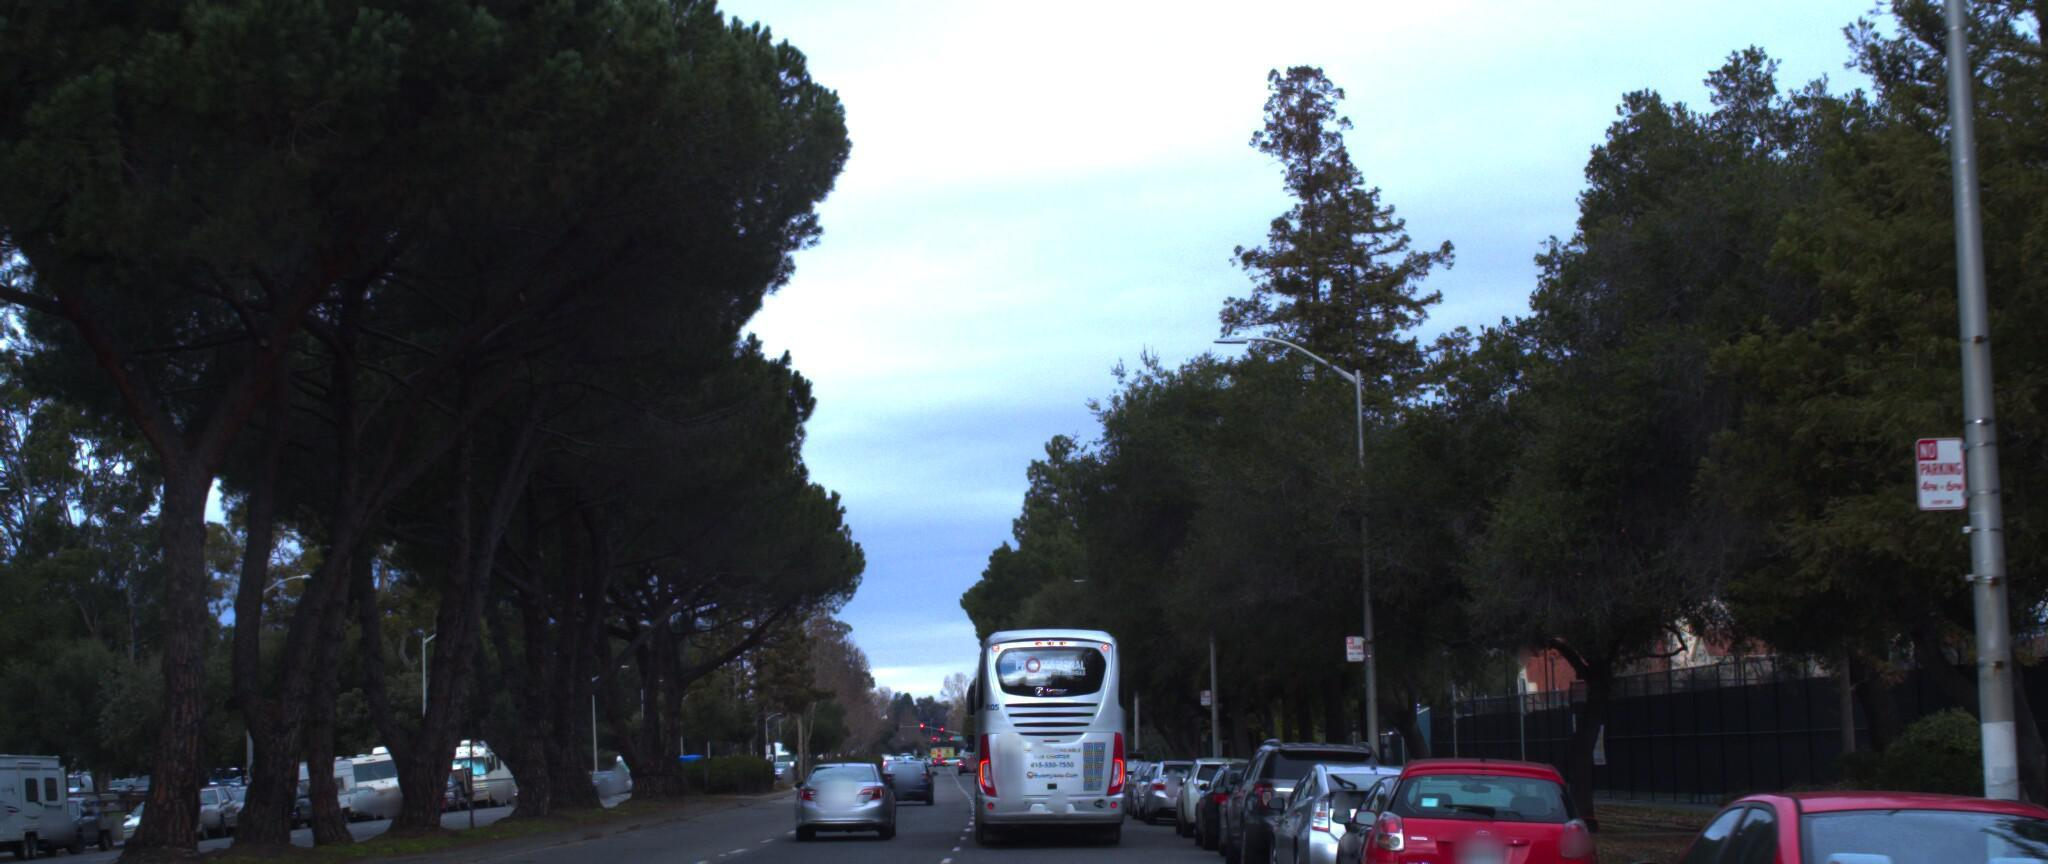bus: (946, 611, 1132, 846)
car: (1567, 762, 2048, 864), (1362, 735, 1620, 864), (1213, 717, 1407, 864), (1263, 743, 1472, 864), (1928, 703, 2048, 864), (3, 777, 135, 852), (1170, 737, 1277, 826), (792, 744, 900, 827), (1138, 737, 1232, 812)
other_vehicle: (0, 722, 85, 860)
